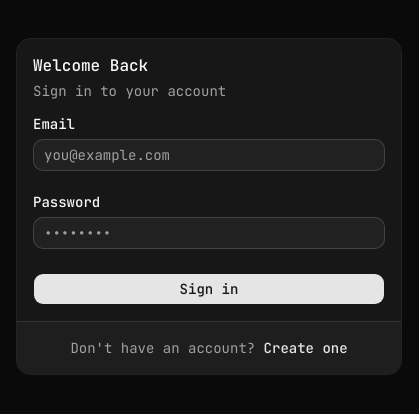
LoginPage › shows error message on invalid credentials
Type "wrong@example.com" into the field labelled "Email".
click(209, 154); type("wrong@example.com")  # box [33, 138, 385, 170]
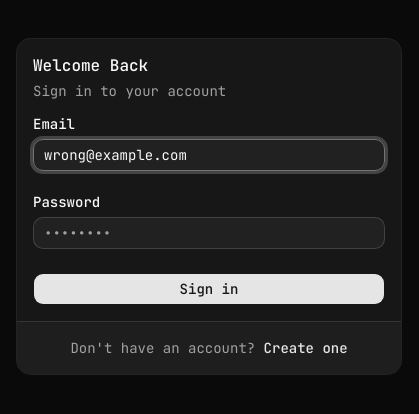
Type "wrongpassword" into the password field labelled "Password".
click(209, 232); type("wrongpassword")  # box [33, 216, 385, 248]
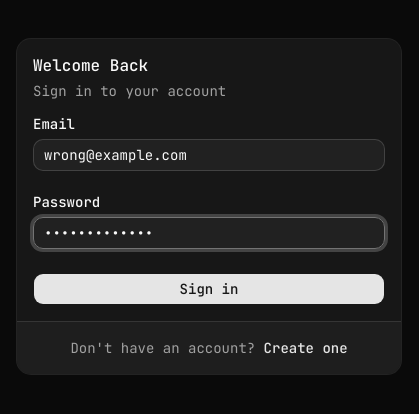
Click the button "Sign in".
click(209, 288)  # box [33, 272, 385, 304]
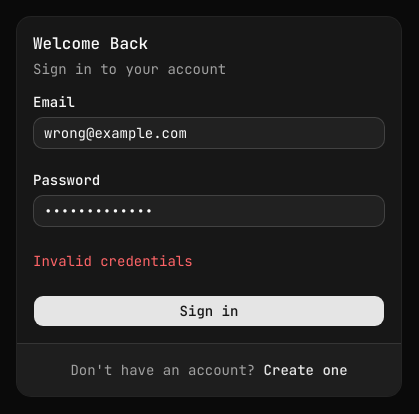
Now the text "Invalid credentials" is shown, box [33, 252, 193, 270]
